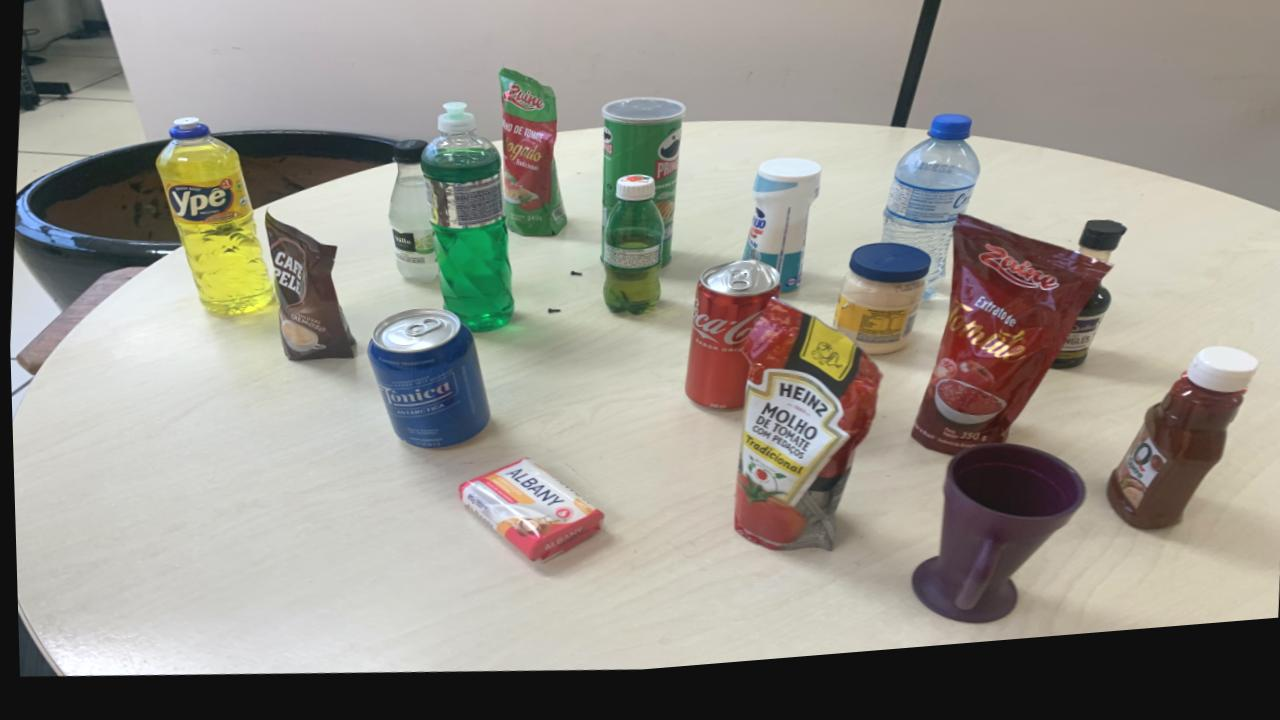Cleaner-Cleanup_Items: (741, 171, 820, 305)
Coffee-Pantry_Items: (263, 217, 352, 366)
Coke-Drinks: (682, 273, 777, 423)
Detergent-Cleanup_Items: (153, 121, 272, 318), (420, 109, 511, 339)
English_Sauce-Pantry_Items: (1048, 303, 1108, 387), (1076, 239, 1124, 280)
Guarana-Drinks: (601, 185, 662, 325)
Ketchup-Pantry_Items: (1104, 367, 1255, 547)
Mayonnaise-Pantry_Items: (830, 256, 928, 369)
Pringles-Snacks: (600, 108, 685, 276)
Soap-Cleanup_Items: (455, 467, 599, 570)
Soda-Drinks: (386, 147, 436, 290)
Tomato_Sauce-Pantry_Items: (910, 231, 1107, 469), (731, 314, 877, 562), (499, 78, 565, 245)
Tonic-Drinks: (364, 314, 487, 455)
Water_Bottle-Drinks: (879, 131, 977, 315)
